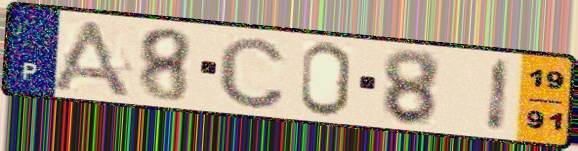0: (298, 39, 354, 119)
8: (380, 46, 443, 129), (134, 26, 195, 103)
A: (43, 18, 137, 101)
C: (215, 33, 289, 111)
I: (484, 55, 514, 136)
